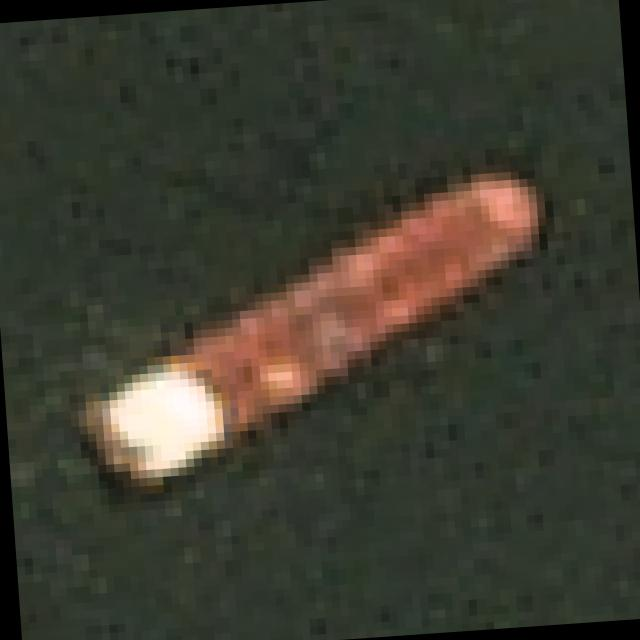ship: (49, 117, 580, 521)
